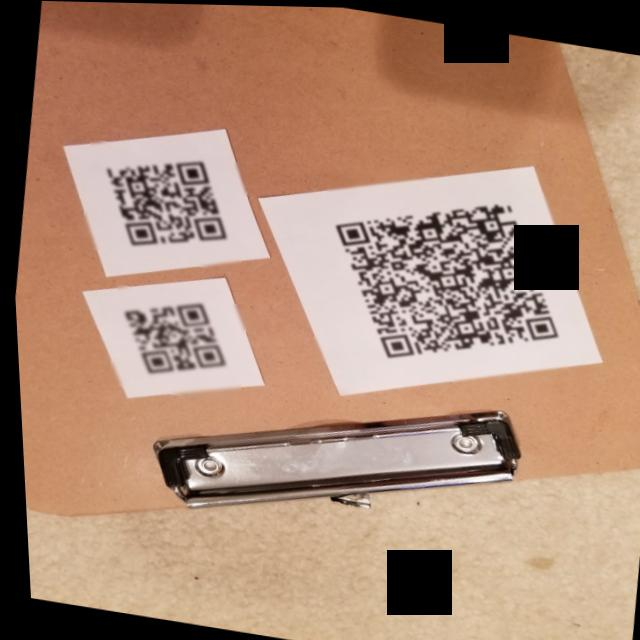QR_CODE: (301, 160, 588, 398), (73, 139, 252, 273), (101, 284, 249, 405)
